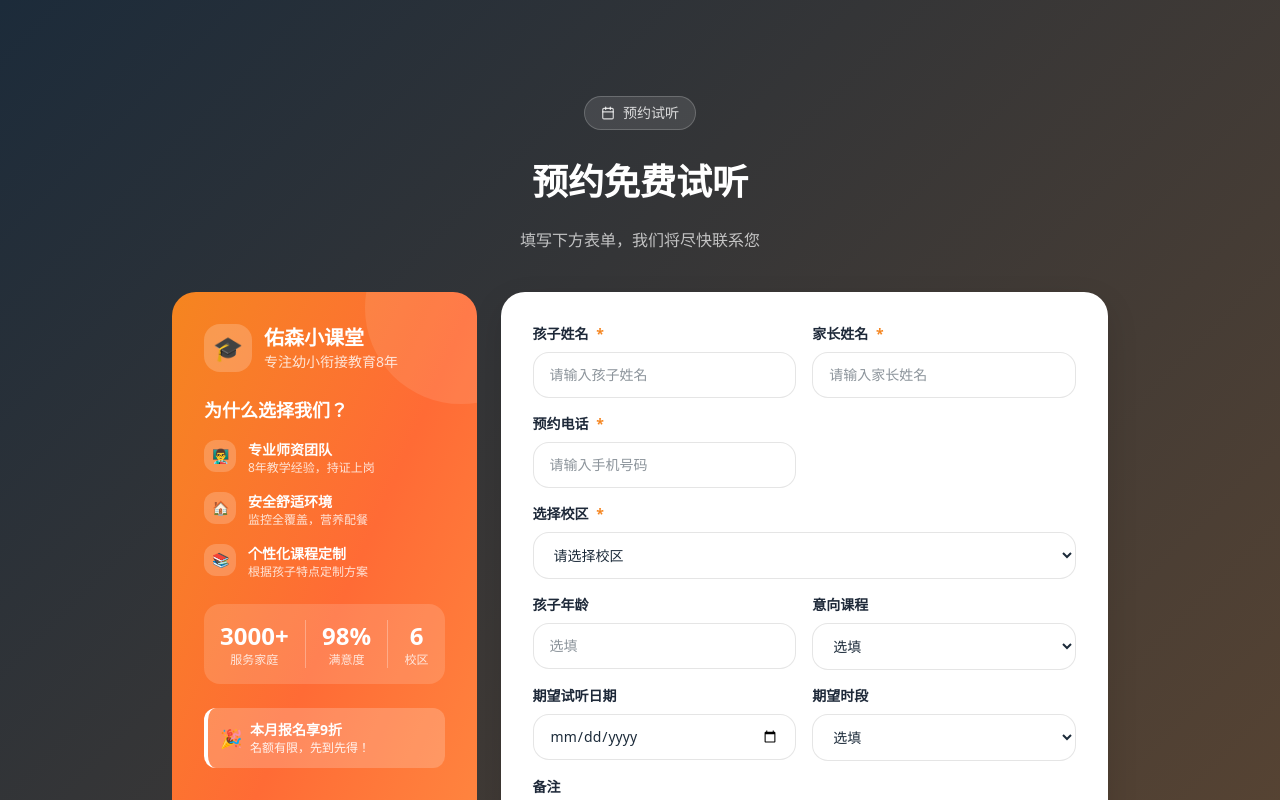
Scenario: ContactForm 组件 › 提交失败时显示错误消息
The width and height of the screenshot is (1280, 800).
Type "小明" into the field labelled "孩子姓名 *" at (664, 375), box 533,352 -> 796,398
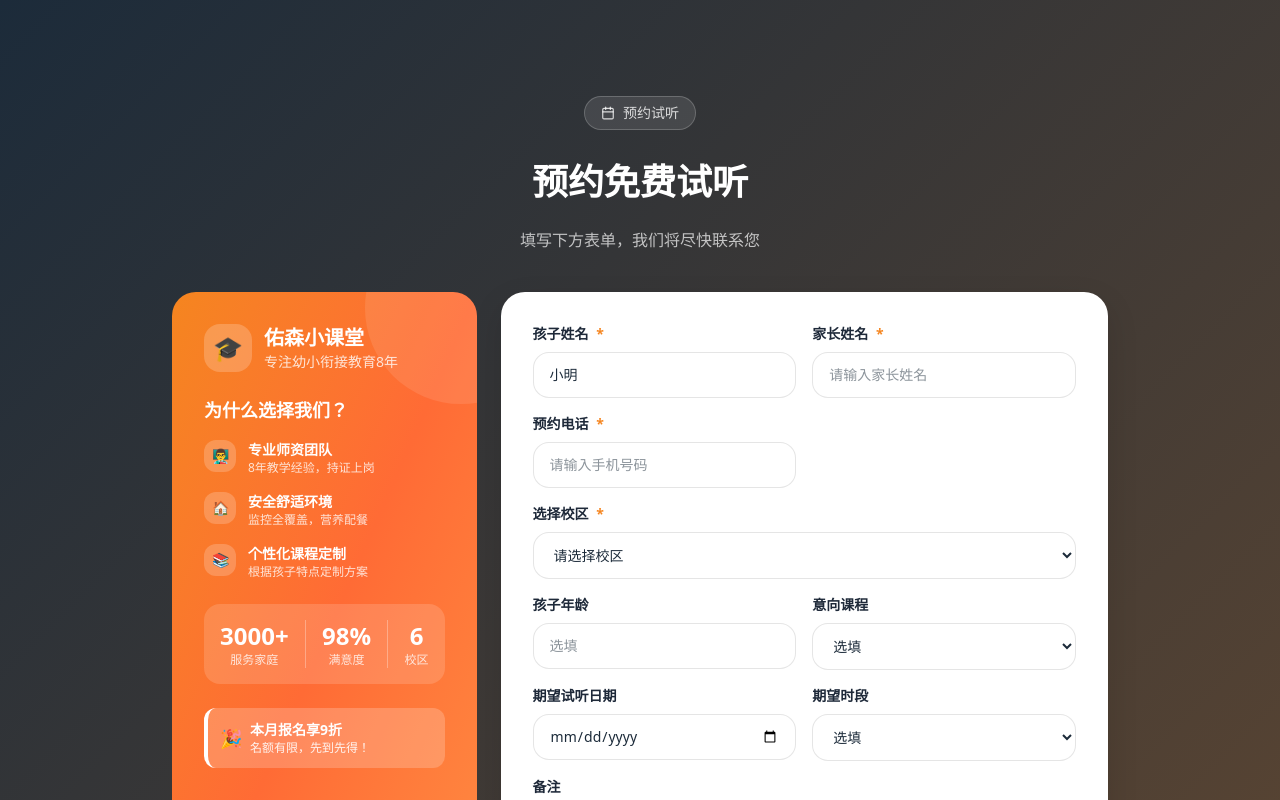
Type "张先生" into the field labelled "家长姓名 *" at (944, 375), box 812,352 -> 1076,398
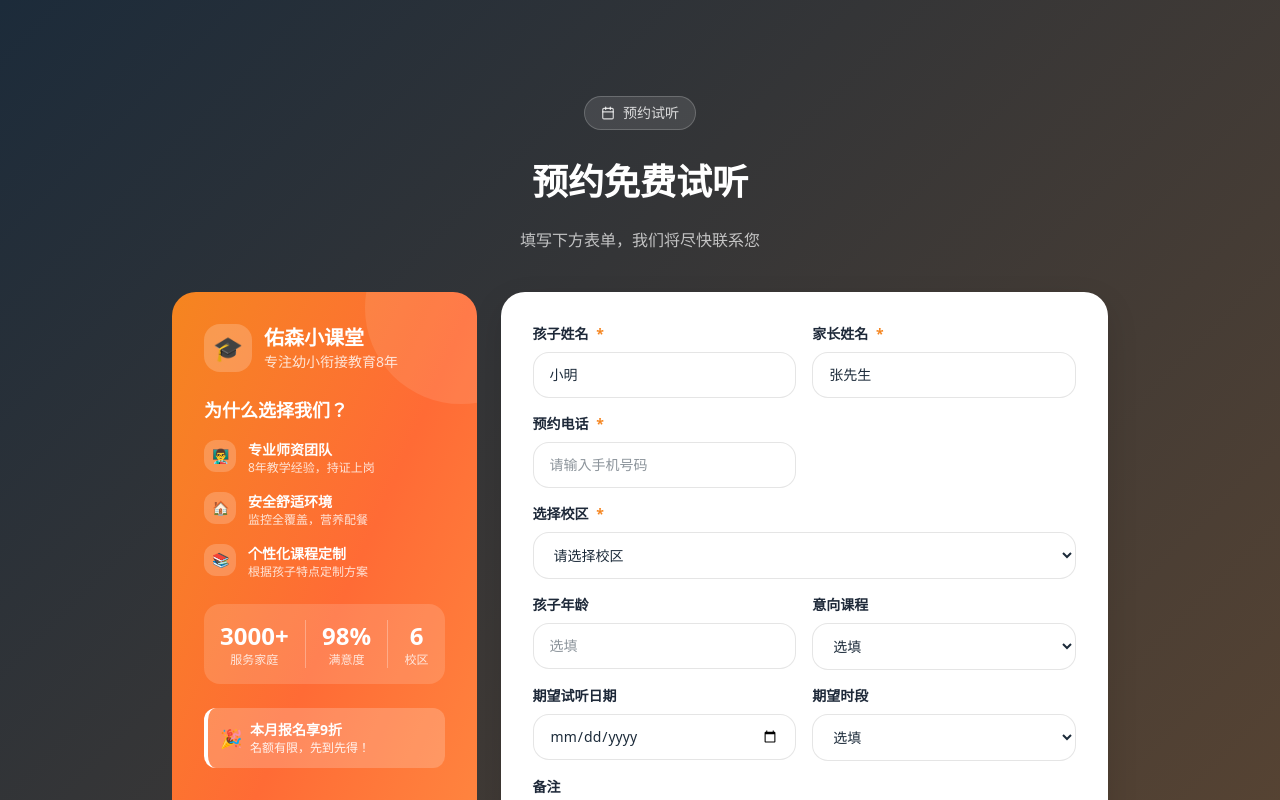
Type "13800138000" into the field labelled "预约电话 *" at (664, 465), box 533,442 -> 796,488
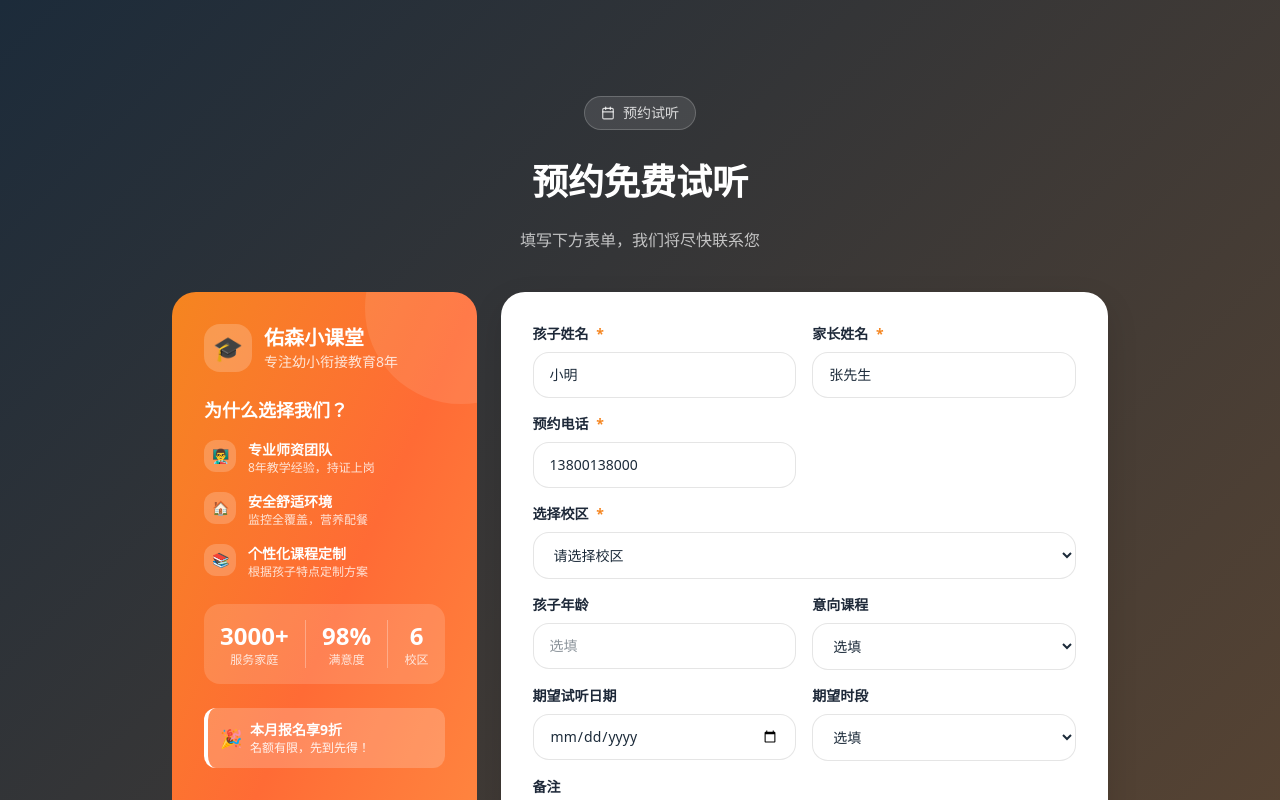
Select "百步亭校区" in the dropdown labelled "选择校区 *" at (804, 555), box 533,532 -> 1076,579
(page scrolled)
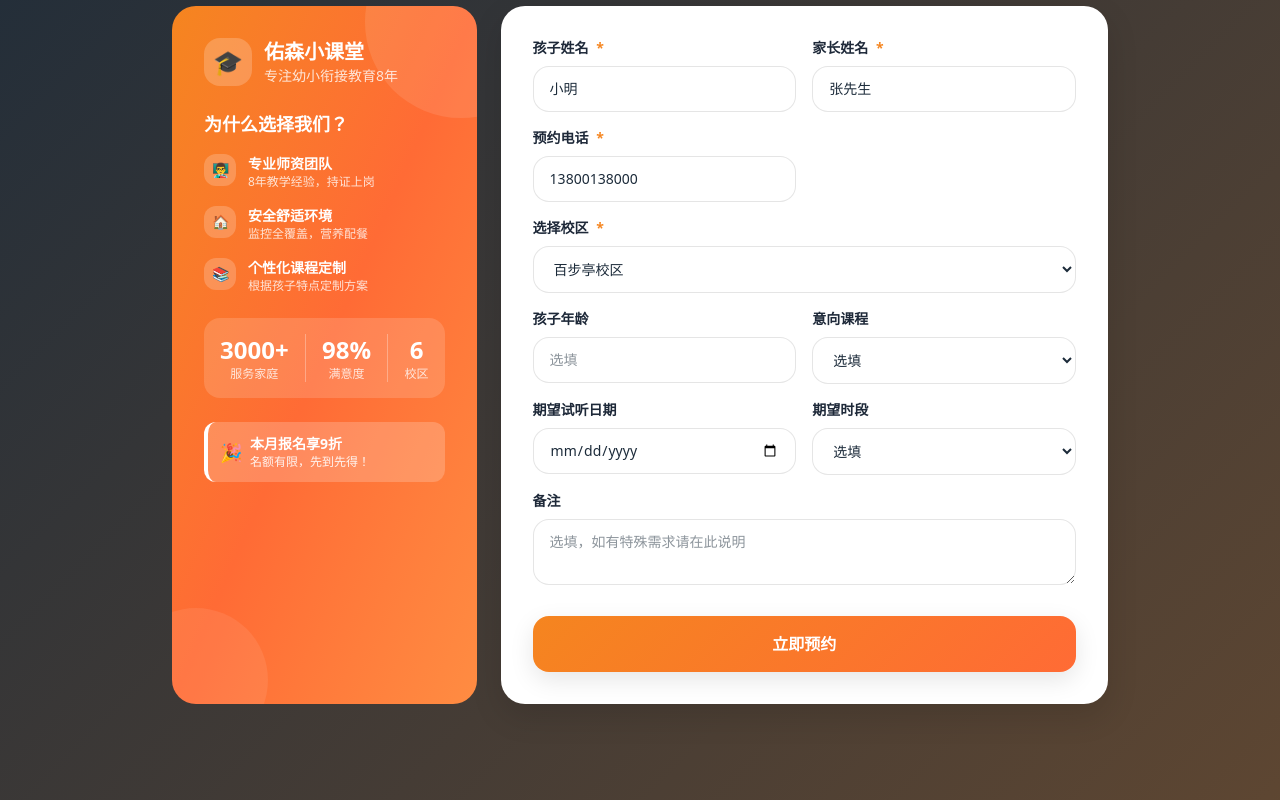
Click the button "立即预约" at (804, 644), box 533,616 -> 1076,672
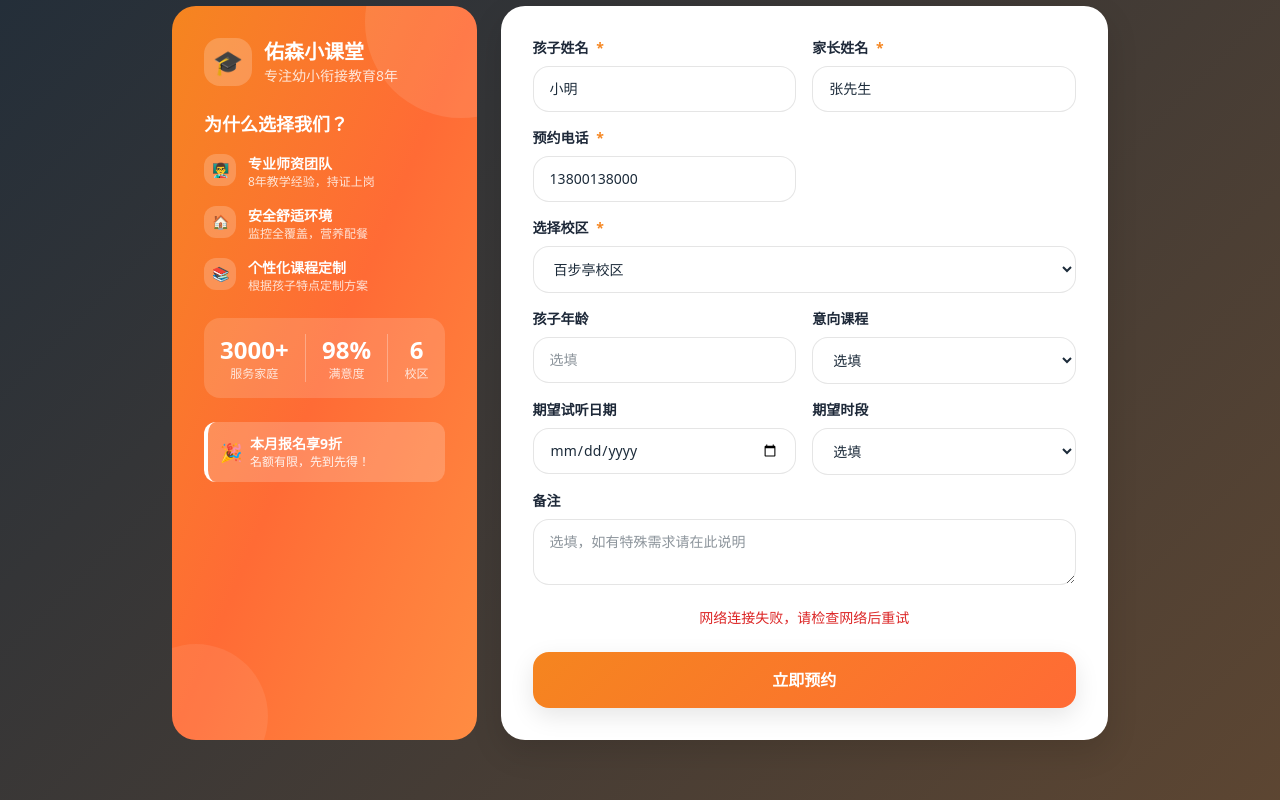
Now the text "网络连接失败，请检查网络后重试" is shown, box 699,608 -> 909,627
